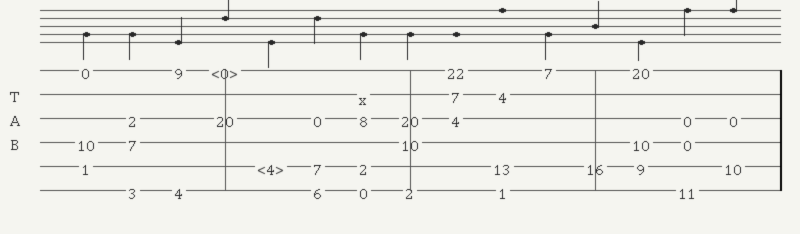0: (81, 63, 94, 77), (313, 111, 326, 125), (359, 183, 372, 197), (683, 111, 696, 125), (683, 135, 696, 149), (729, 111, 742, 125)
1: (81, 159, 94, 173), (498, 183, 511, 197)
10: (77, 135, 99, 149), (401, 135, 423, 149), (632, 135, 654, 149), (724, 159, 746, 173)
11: (678, 183, 700, 197)
13: (493, 159, 515, 173)
16: (586, 159, 608, 173)
2: (128, 111, 141, 125), (359, 159, 372, 173), (405, 183, 418, 197)
20: (216, 111, 238, 125), (401, 111, 423, 125), (632, 63, 654, 77)
22: (447, 63, 469, 77)
3: (128, 183, 141, 197)
4: (174, 183, 187, 197), (451, 111, 464, 125), (498, 87, 511, 101)
6: (313, 183, 326, 197)
7: (128, 135, 141, 149), (313, 159, 326, 173), (451, 87, 464, 101), (544, 63, 557, 77)
8: (359, 111, 372, 125)
9: (174, 63, 187, 77), (636, 159, 649, 173)
harmonic: (211, 63, 242, 77), (257, 159, 288, 173)
x: (359, 89, 371, 100)
